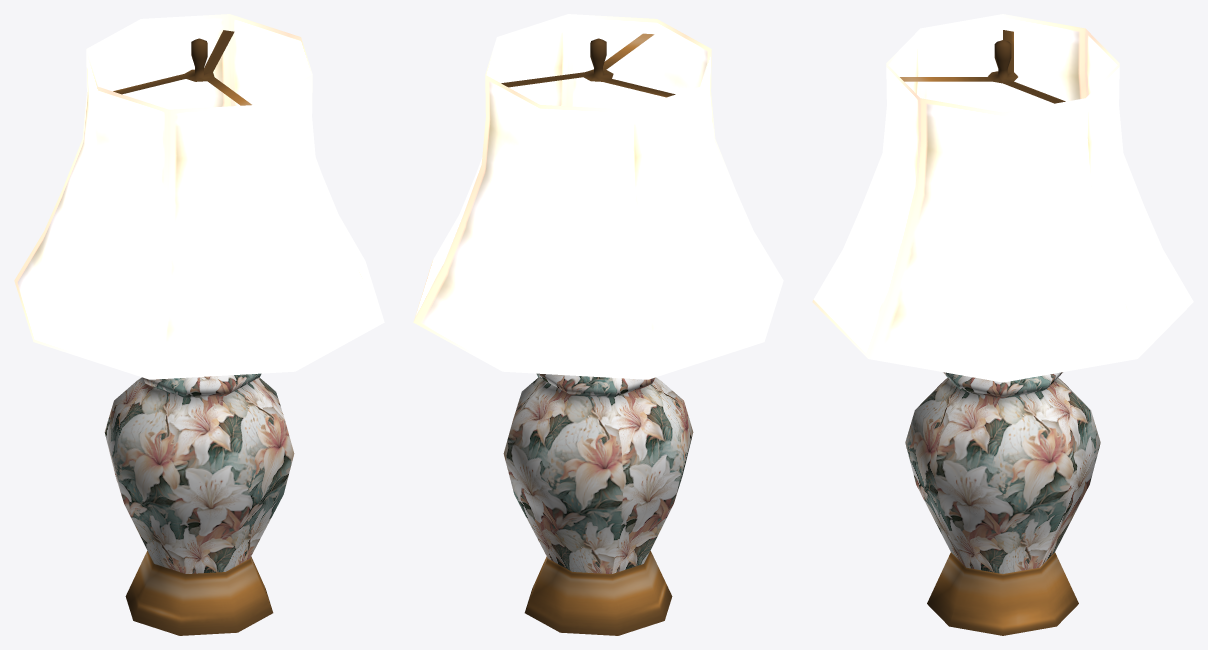
File: lampA.fbx
3 views of the same model, side by side, from view 1: azimuth 30°, elevation 25°; view 2: azimuth 150°, elevation 25°; view 3: azimuth 270°, elevation 25° (orthographic).
Parts seen in each view (by area): view 1: lampA; view 2: lampA; view 3: lampA.
Boxes of the visible parts, x1,y1,x2,y2 form: lampA: (14,14,384,635); lampA: (413,14,783,635); lampA: (812,14,1193,635).
Size of the model in its own units: 49.08 by 79.98 by 49.08.
Materials: 1 (1 with a texture image).
